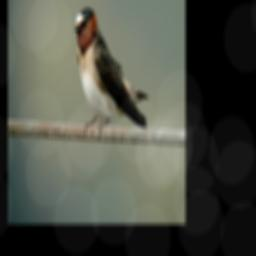Swallow: (71, 2, 150, 137)
